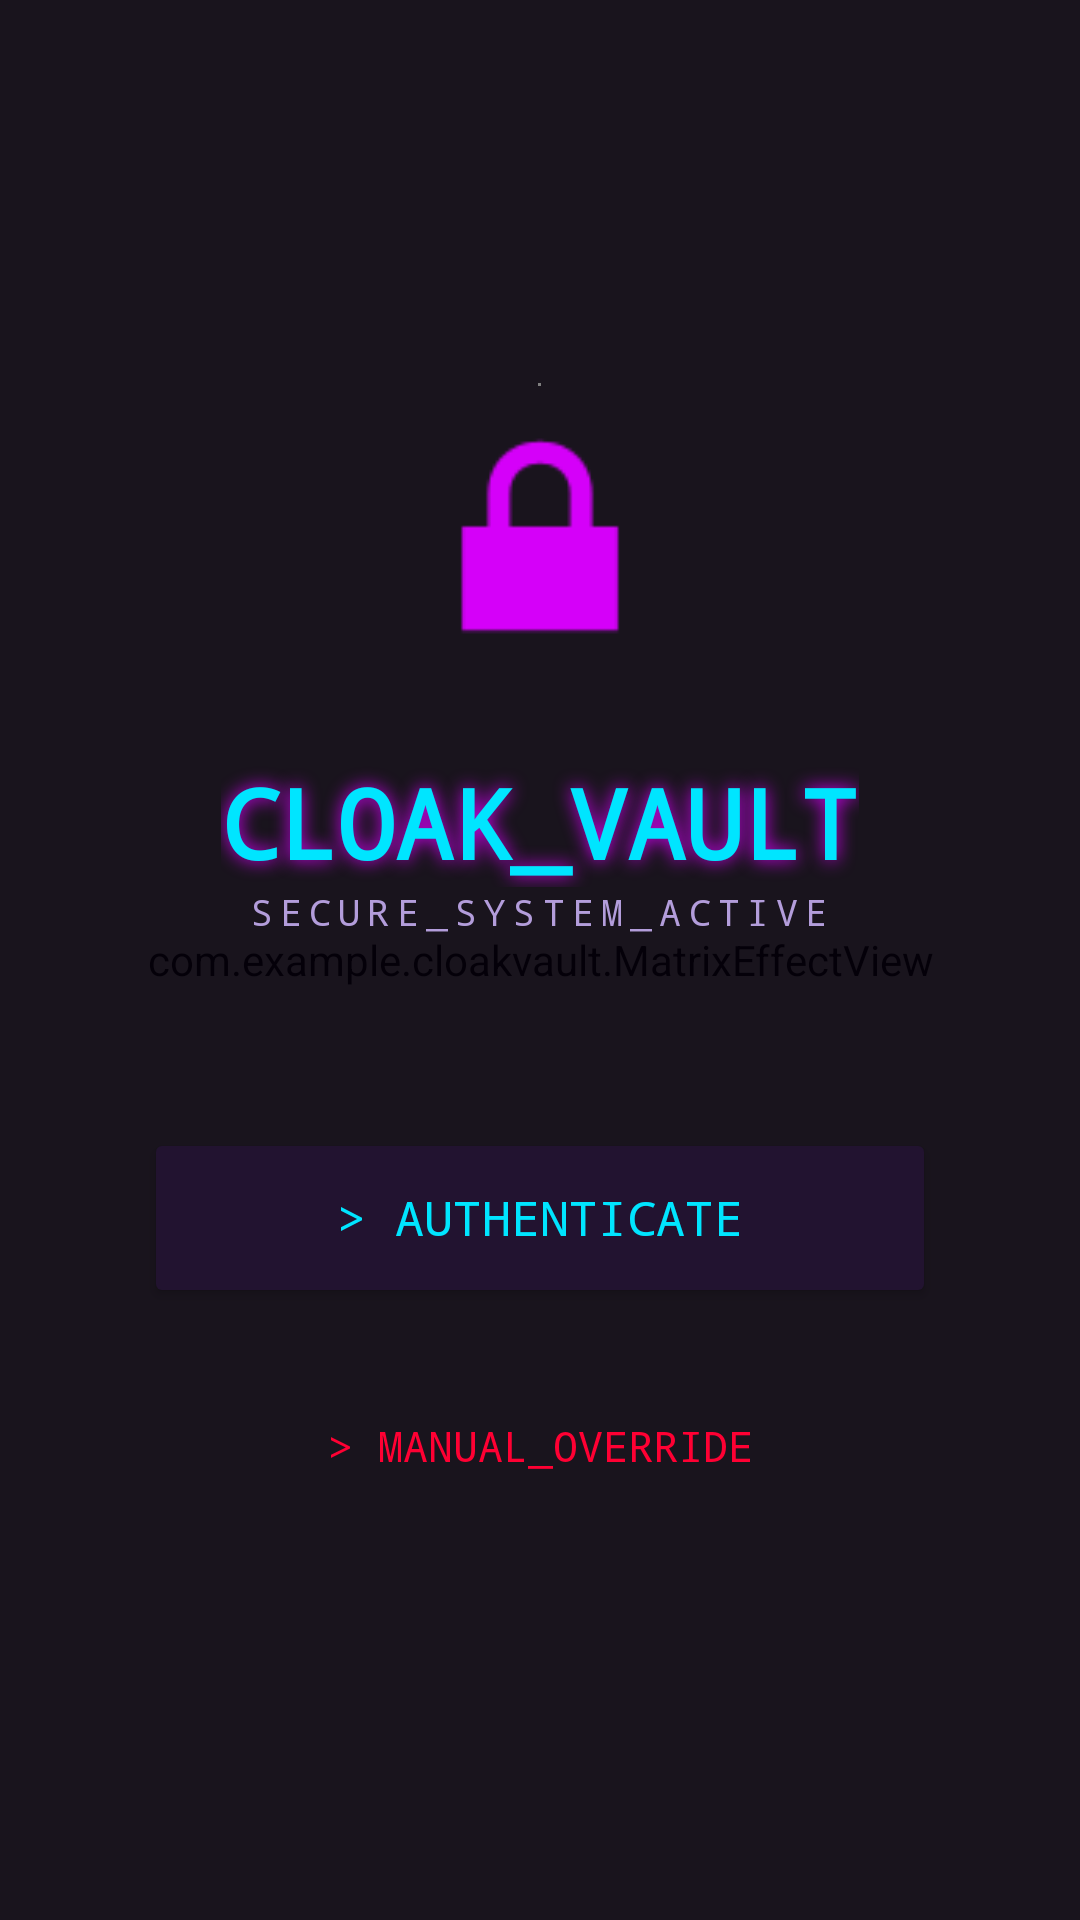

Icon click points for this 1080w x 1920h phone screenshot, format (x,y):
lock: (540,536)
